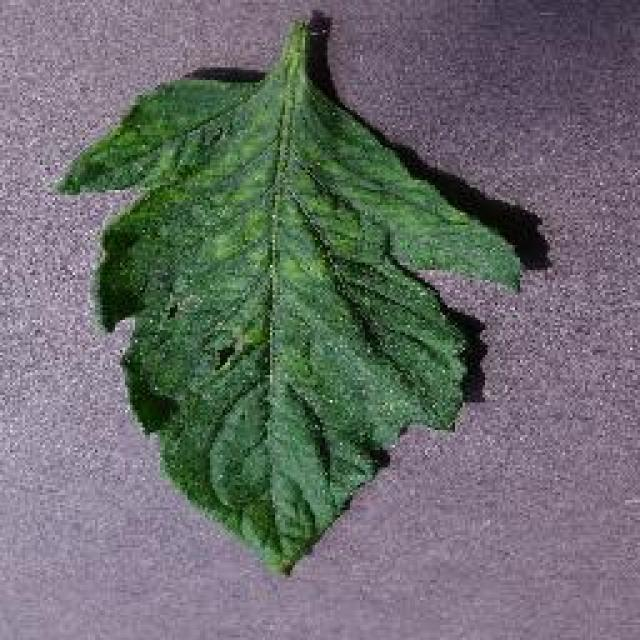Tomato spider mites leaf: (56, 69, 524, 576)
